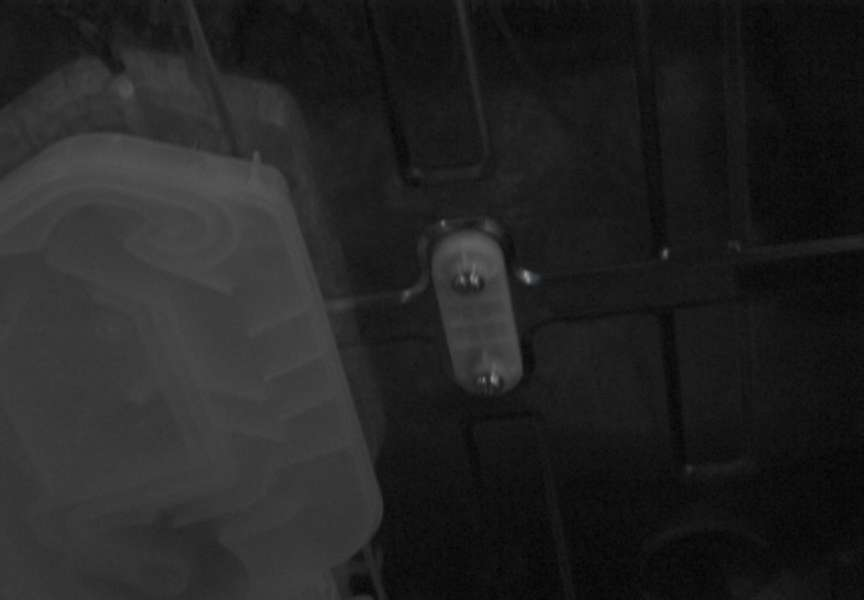screw: (452, 268, 485, 294), (474, 369, 505, 396)
